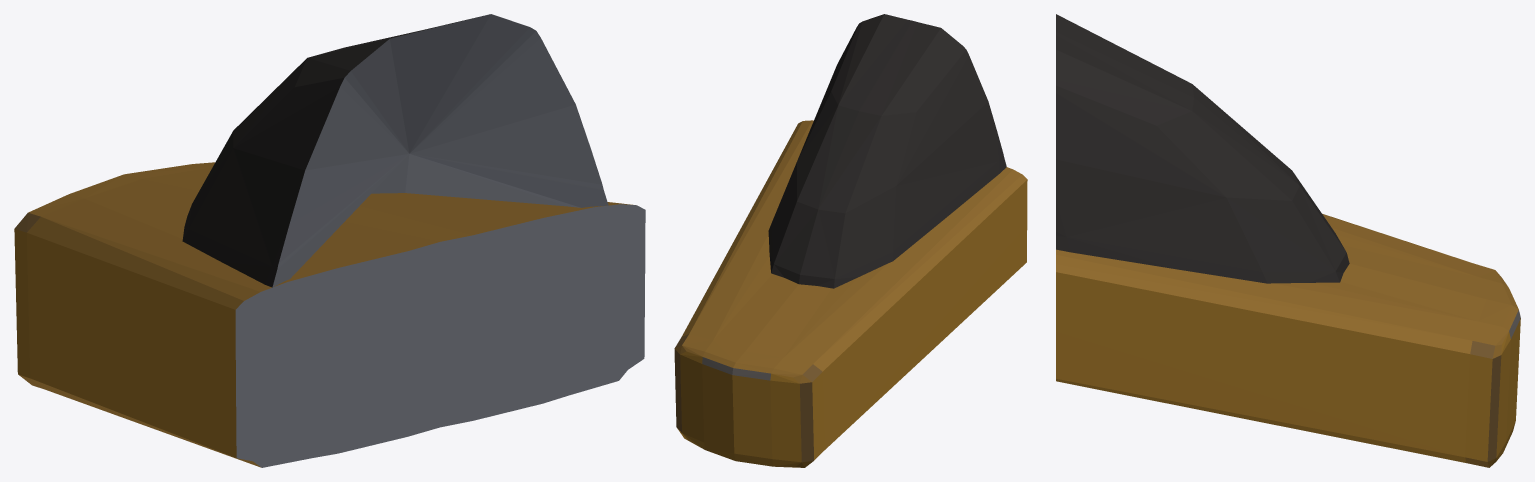
Rendered from nose.glb.
3 renders of one model, left to right at view 1: azimuth 30°, elevation 25°; view 2: azimuth 150°, elevation 25°; view 3: azimuth 270°, elevation 25°, orthographic. The views are drawn at different scales.
Size of the model in its own units: 0.3278 by 0.4265 by 0.4467.
